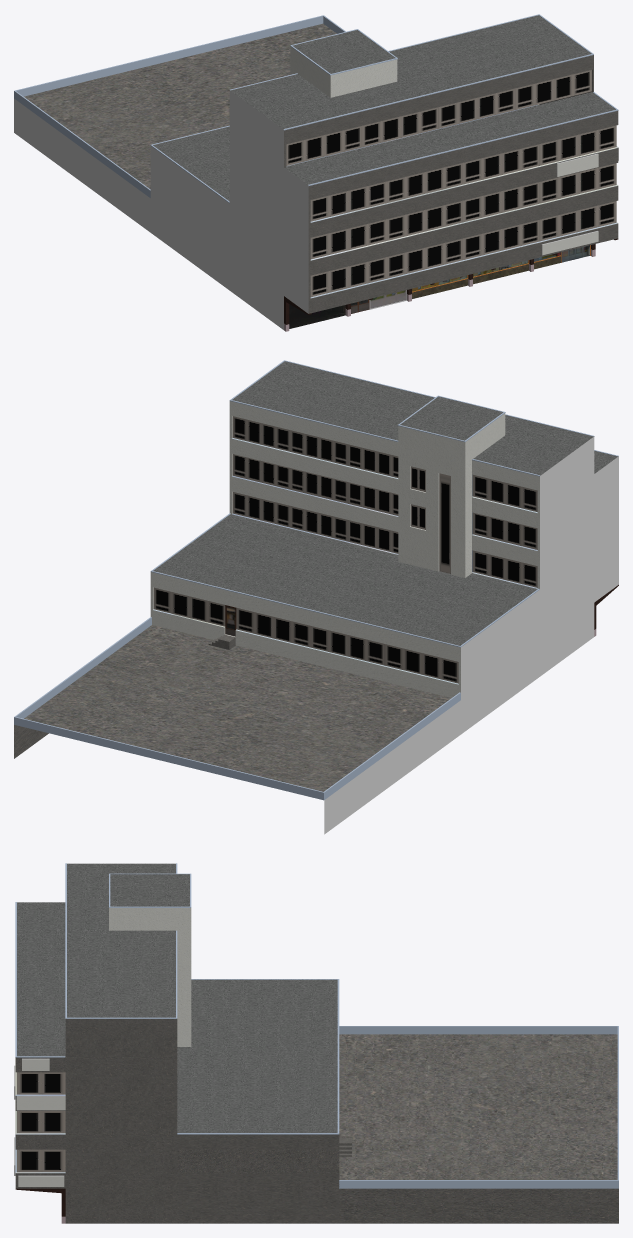
File: uusikatu_20.dae
3 renders of one model, top to bottom at view 1: azimuth 30°, elevation 25°; view 2: azimuth 150°, elevation 25°; view 3: azimuth 270°, elevation 25°, orthographic. The views are drawn at different scales.
Parts seen in each view (by area): view 1: Object_1; view 2: Object_1; view 3: Object_1.
Part boxes in pixels (x1=…): Object_1: x1=14, y1=14, x2=618, y2=331; Object_1: x1=14, y1=360, x2=618, y2=834; Object_1: x1=14, y1=863, x2=618, y2=1223.
Bounding box in the file's own units: 28.42 × 46.72 × 19.52.
